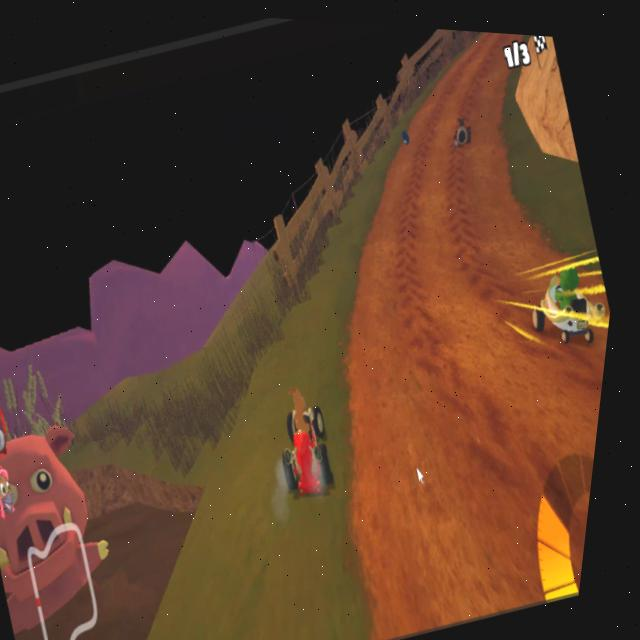enemy_kart: (512, 237, 622, 367), (447, 108, 485, 157)
off_track: (109, 257, 372, 414)
player_kart: (256, 380, 370, 518)
track: (379, 170, 544, 307)
